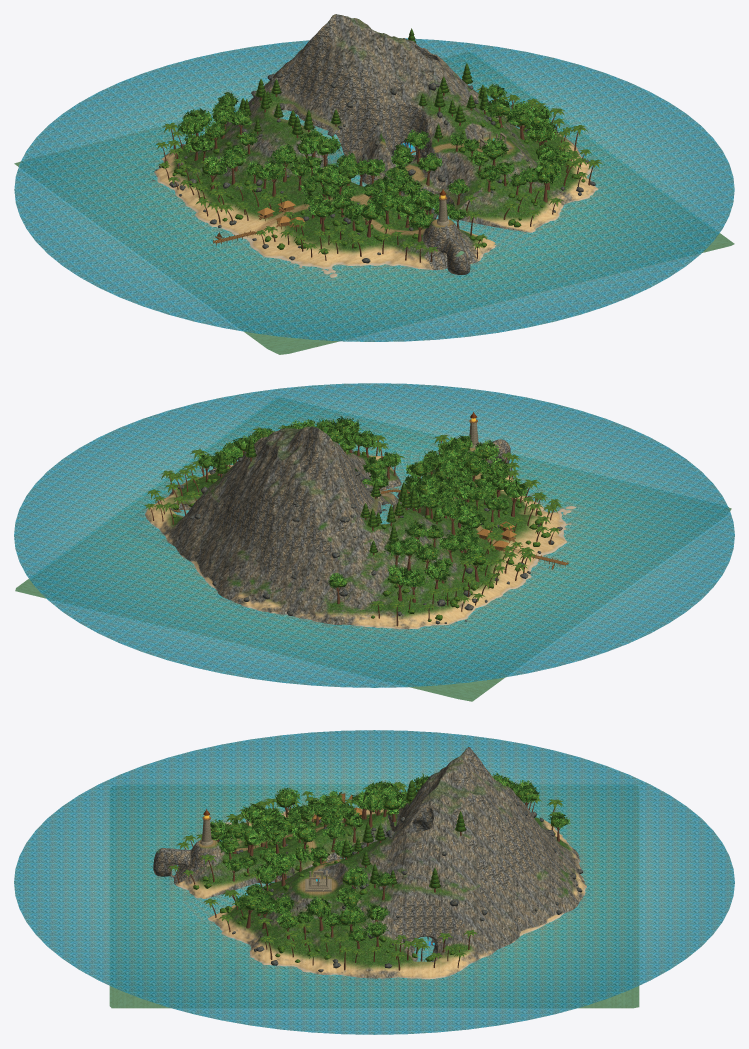
The model's file is island.glb.
3 views of the same model, one above another, from view 1: azimuth 30°, elevation 25°; view 2: azimuth 150°, elevation 25°; view 3: azimuth 270°, elevation 25° (orthographic).
Parts seen in each view (by area): view 1: Ocean_Surrounding_Sea, Island_Terrain_Exterior, Trees_Leaf_Cards, Trees_Canopy_And_Palms, Island_Cave_And_Cliffs, Trees_Trunks_And_Branches, River_Waterfall_And_Lagoon, Cave_Stalactites_And_Boulders; view 2: Ocean_Surrounding_Sea, Island_Terrain_Exterior, Trees_Leaf_Cards, Trees_Canopy_And_Palms, Island_Cave_And_Cliffs, Trees_Trunks_And_Branches, Cave_Stalactites_And_Boulders, River_Waterfall_And_Lagoon, Village_Bridge_Pier_And_Boats_Wood; view 3: Ocean_Surrounding_Sea, Island_Terrain_Exterior, Trees_Leaf_Cards, Trees_Canopy_And_Palms, Island_Cave_And_Cliffs, Trees_Trunks_And_Branches, River_Waterfall_And_Lagoon, Cave_Stalactites_And_Boulders, Ancient_Ruins_And_Lighthouse_Stone.
Part boxes in pixels (x1,y1,x2,y2): Ocean_Surrounding_Sea: (14, 38, 734, 341); Island_Terrain_Exterior: (14, 14, 734, 354); Trees_Leaf_Cards: (177, 84, 571, 229); Trees_Canopy_And_Palms: (155, 28, 602, 254); Island_Cave_And_Cliffs: (279, 16, 525, 274); Trees_Trunks_And_Branches: (162, 84, 593, 262); River_Waterfall_And_Lagoon: (279, 110, 544, 251); Cave_Stalactites_And_Boulders: (152, 72, 595, 263); Ocean_Surrounding_Sea: (14, 383, 734, 687); Island_Terrain_Exterior: (15, 426, 731, 701); Trees_Leaf_Cards: (197, 416, 527, 589); Trees_Canopy_And_Palms: (144, 421, 562, 621); Island_Cave_And_Cliffs: (170, 431, 510, 579); Trees_Trunks_And_Branches: (150, 439, 553, 626); Cave_Stalactites_And_Boulders: (177, 450, 562, 624); River_Waterfall_And_Lagoon: (176, 451, 425, 524); Village_Bridge_Pier_And_Boats_Wood: (173, 411, 568, 569); Ocean_Surrounding_Sea: (14, 730, 734, 1034); Island_Terrain_Exterior: (109, 747, 639, 1008); Trees_Leaf_Cards: (210, 773, 570, 941); Trees_Canopy_And_Palms: (167, 772, 567, 962); Island_Cave_And_Cliffs: (153, 749, 556, 961); Trees_Trunks_And_Branches: (175, 789, 559, 970); River_Waterfall_And_Lagoon: (180, 857, 434, 961); Cave_Stalactites_And_Boulders: (177, 802, 583, 972); Ancient_Ruins_And_Lighthouse_Stone: (200, 820, 331, 891).
Bounding box in the file's own units: 686 × 161 × 686.
13 materials, 13 textured.
